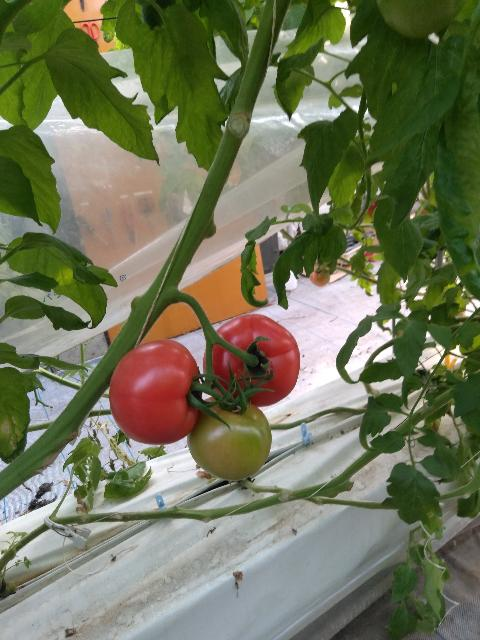b_fully_ripened: (109, 339, 202, 445), (202, 314, 301, 407)
b_green: (186, 394, 272, 481), (377, 0, 466, 39)
